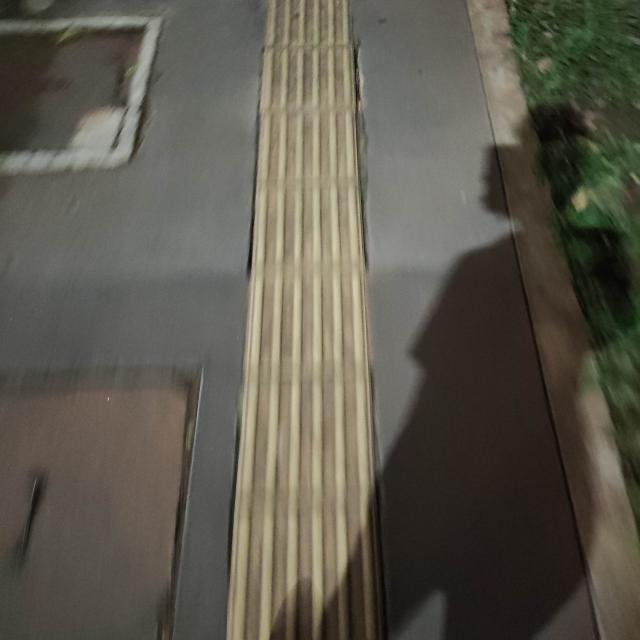lurus: (225, 37, 375, 640)
